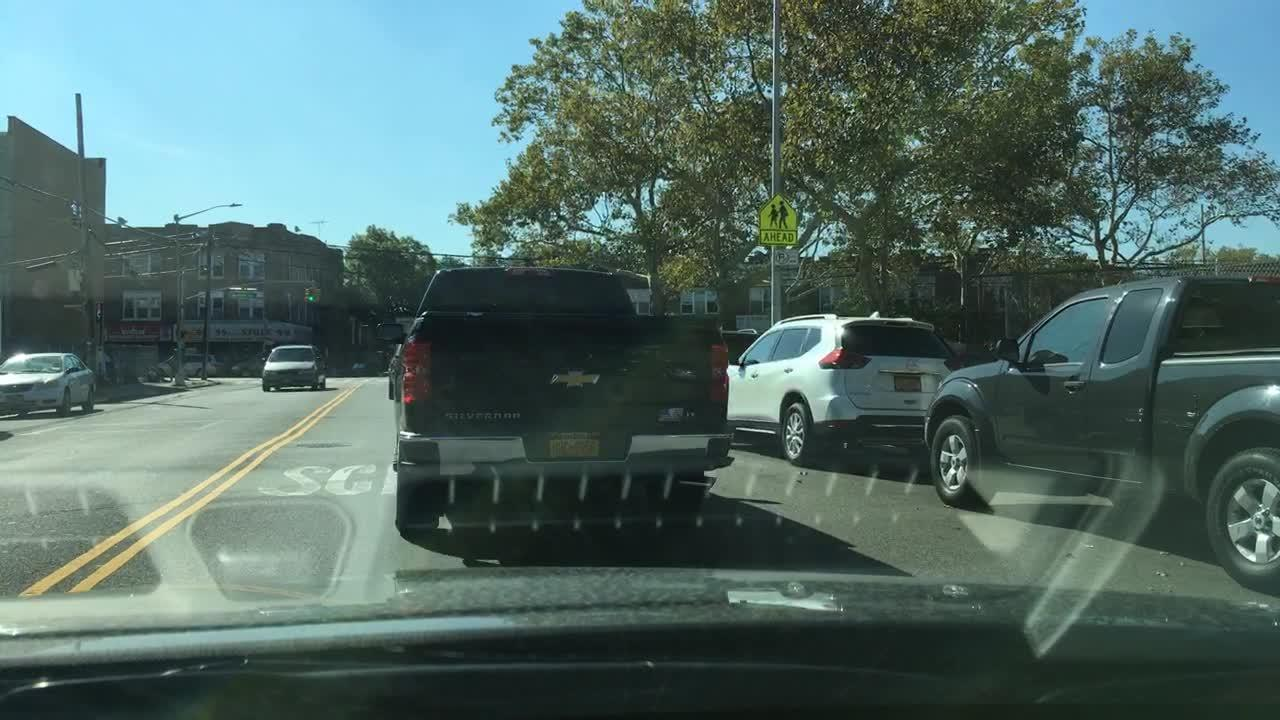chevrolet: (543, 363, 609, 395)
